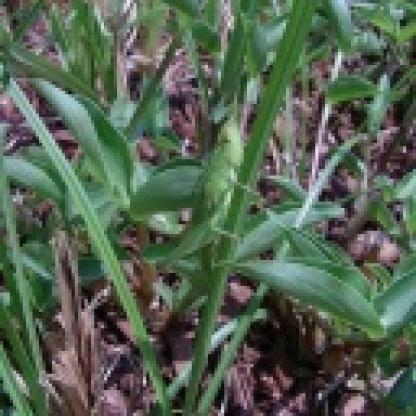grasshopper: (183, 118, 266, 248)
